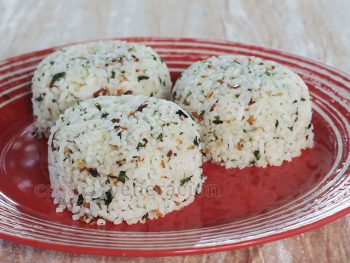plain rice: (45, 99, 200, 222), (178, 59, 316, 164), (32, 41, 172, 125)
